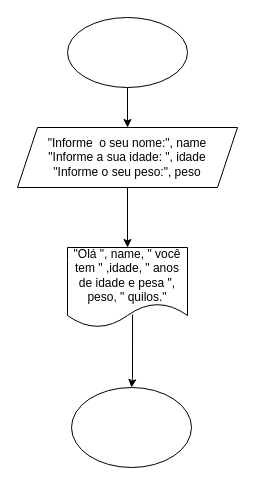
Some shapes in this 255 by 485 pixel diagram are drawn without their labels. Here are the shapes that lost their labels. From the top down, the centre of each, then its label:
At point (127, 52): "Inicio".
At point (131, 427): "Fim".
